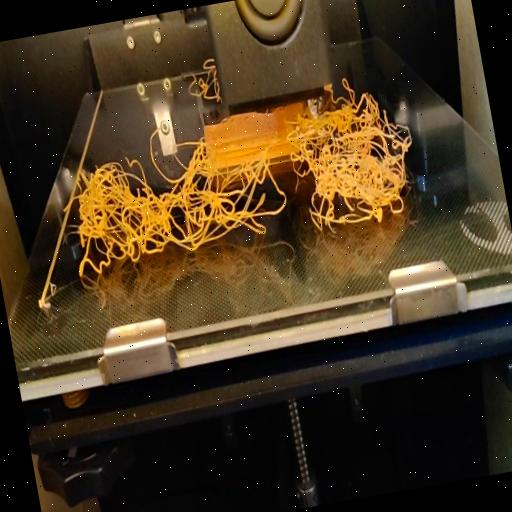spaghetti: (47, 72, 430, 294), (183, 56, 223, 106)
